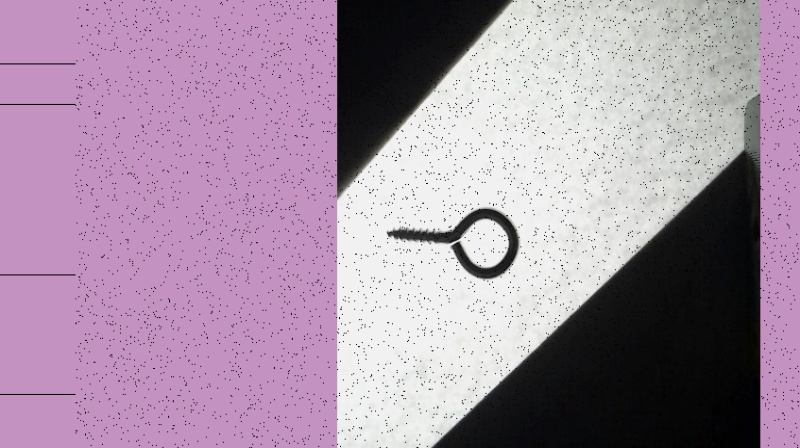O001: (384, 203, 520, 281)
